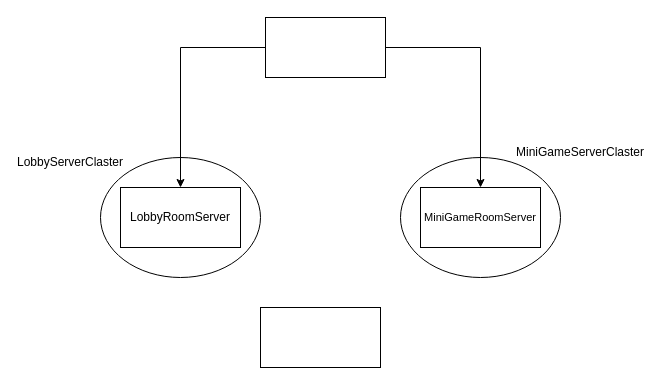
Some shapes in this 661 by 385 pixel diagram are drawn without their labels. Each missing label, with the centre of its shape:
ClusterManager: the point at 320,337
MatchingServer: the point at 325,47
